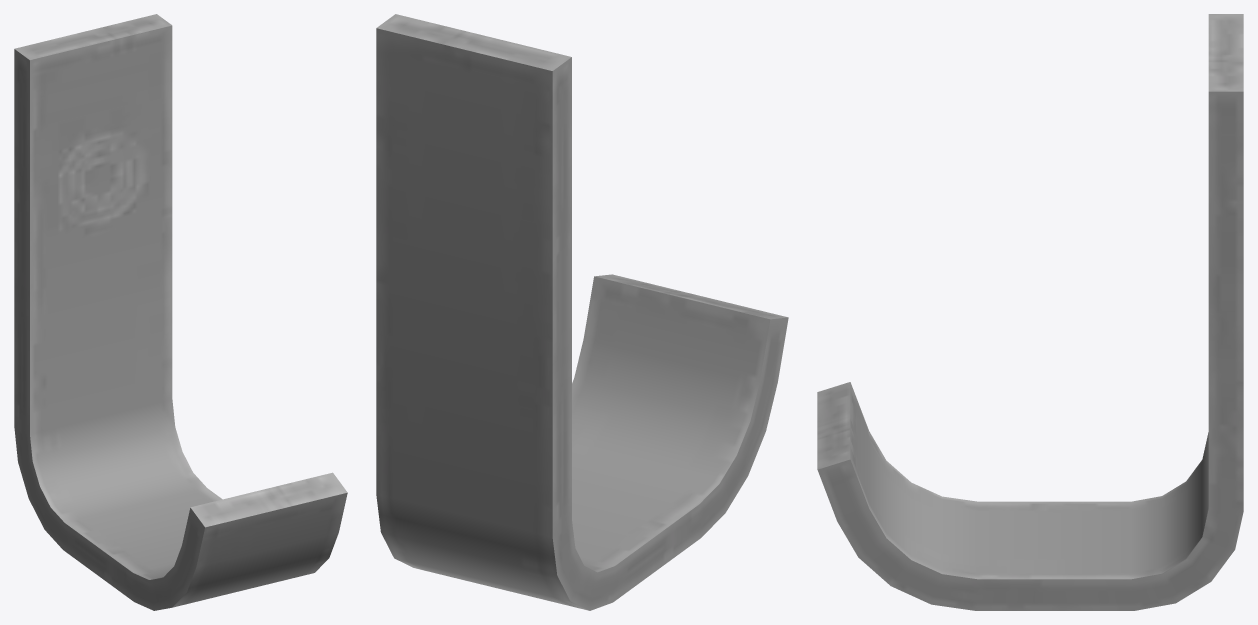
File: gun_display_rack_hook.glb
The picture shows the model from 3 angles, left to right: view 1: azimuth 30°, elevation 25°; view 2: azimuth 150°, elevation 25°; view 3: azimuth 270°, elevation 25°; orthographic projection. The views are drawn at different scales.
Parts seen in each view (by area): view 1: gun_display_rack_hook; view 2: gun_display_rack_hook; view 3: gun_display_rack_hook.
Boxes of the visible parts, x1=… form: gun_display_rack_hook: x1=14, y1=14, x2=347, y2=610; gun_display_rack_hook: x1=376, y1=14, x2=788, y2=610; gun_display_rack_hook: x1=817, y1=14, x2=1243, y2=610.
Bounding box in the file's own units: 0.0321 × 0.1 × 0.0744.
Materials: 1 (1 with a texture image).
